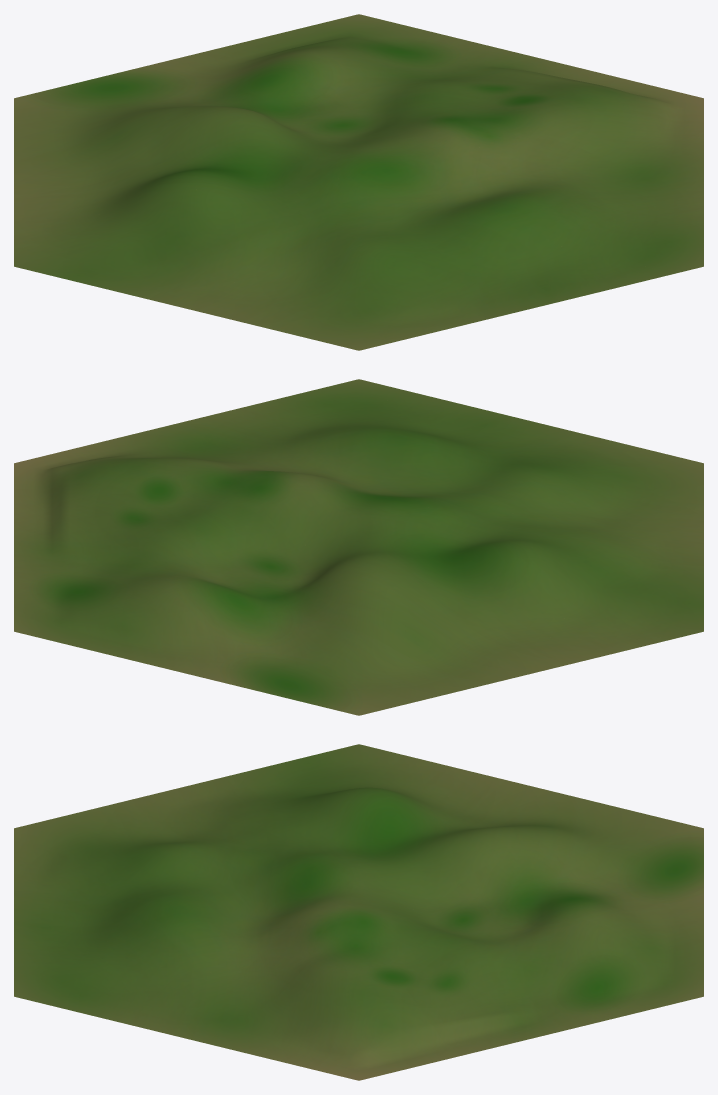
File: Hills2A.glb
The picture shows the model from 3 angles, top to bottom: view 1: azimuth 30°, elevation 25°; view 2: azimuth 150°, elevation 25°; view 3: azimuth 270°, elevation 25°; orthographic projection.
Visible parts, largest first — view 1: Circle; view 2: Circle; view 3: Circle.
Part boxes in pixels (x1,y1,x2,y2): Circle: [14, 14, 703, 350]; Circle: [14, 379, 703, 715]; Circle: [14, 744, 703, 1080].
Bounding box in the file's own units: 400 × 22.7 × 346.
Materials: 1 (1 with a texture image).
